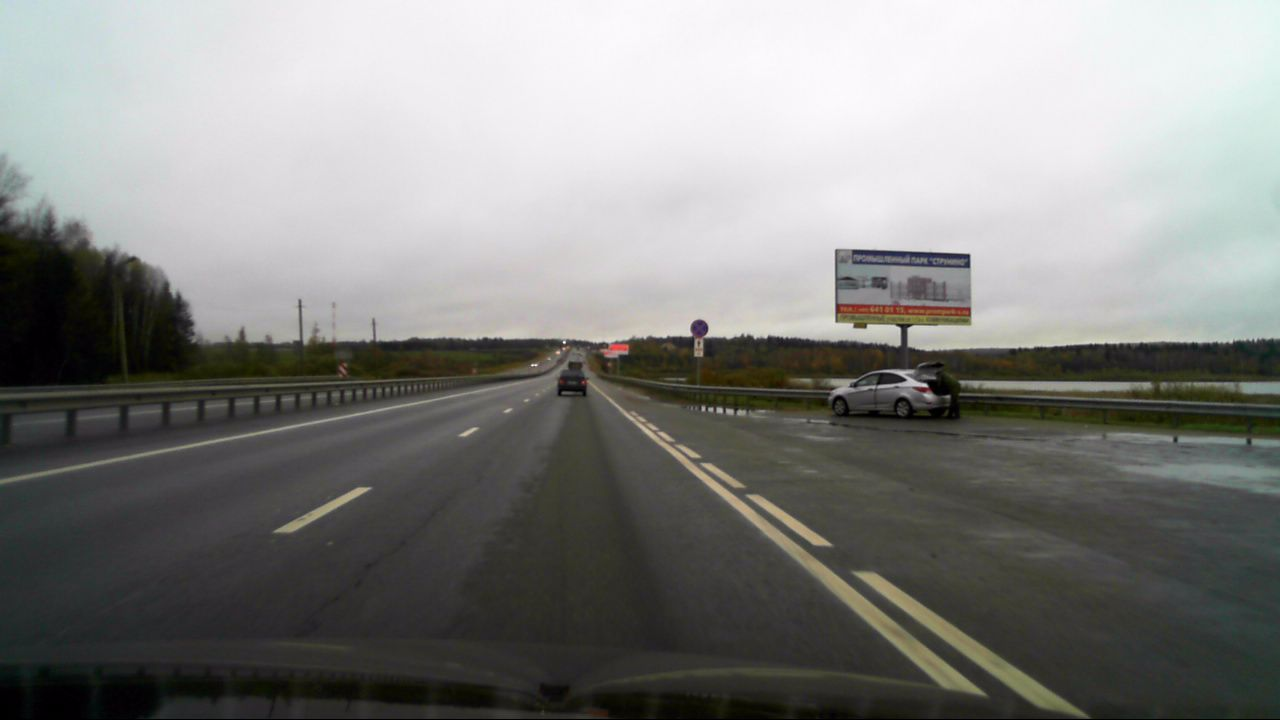No Parking: (690, 319, 708, 337)
